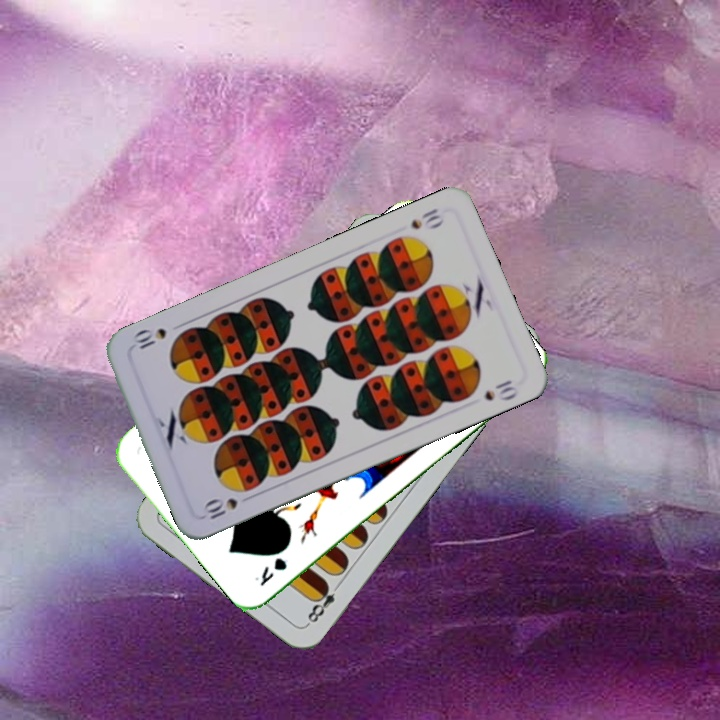E8: (303, 577, 345, 628)
GK: (250, 553, 290, 589)
S10: (198, 494, 240, 522), (406, 204, 447, 232)
